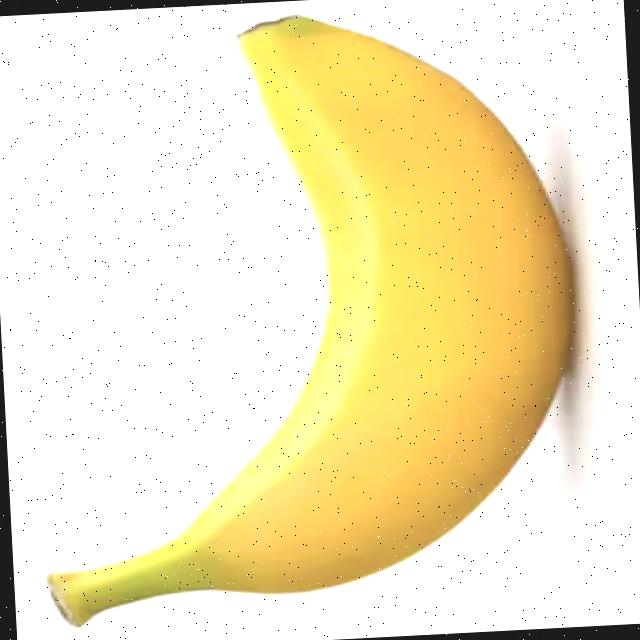Ripe: (3, 0, 596, 628)
